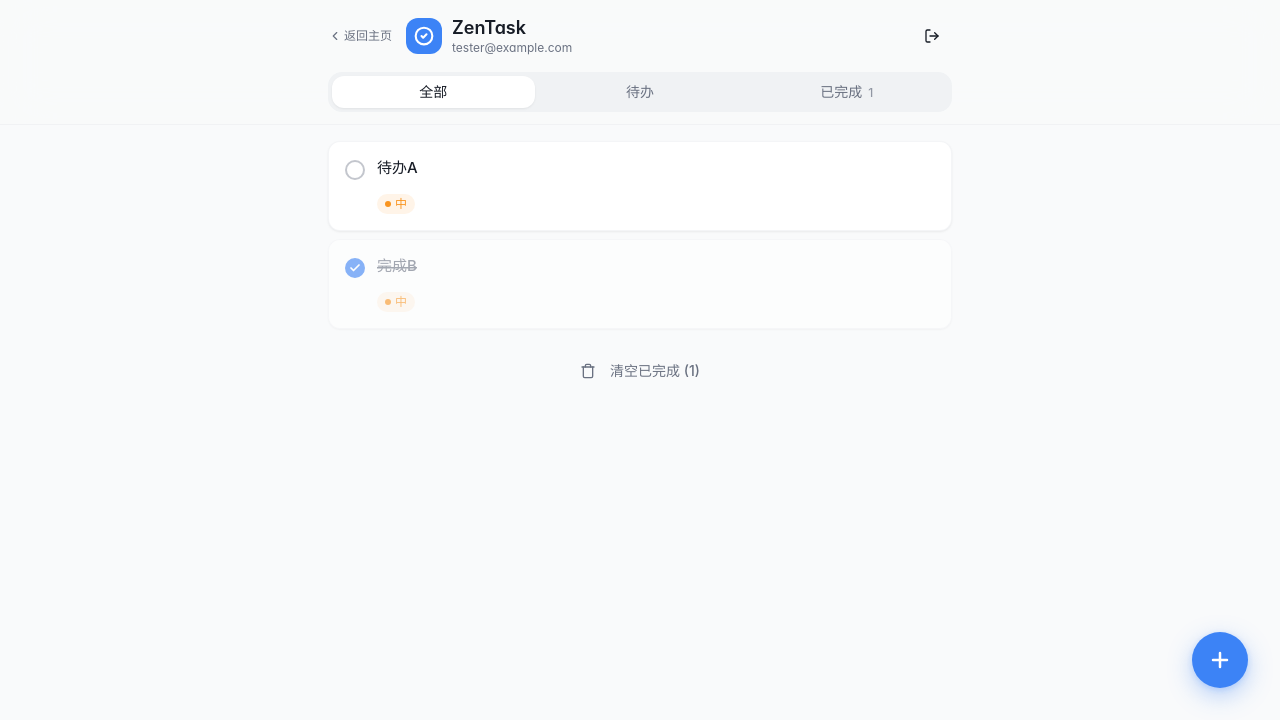
Test: Index (ZenTask) › filters tasks by completed tab
expect the heading "待办A" is shown: met, box 377,158 -> 418,179
Click the tab "已完成1" at (847, 92), box 745,76 -> 948,108
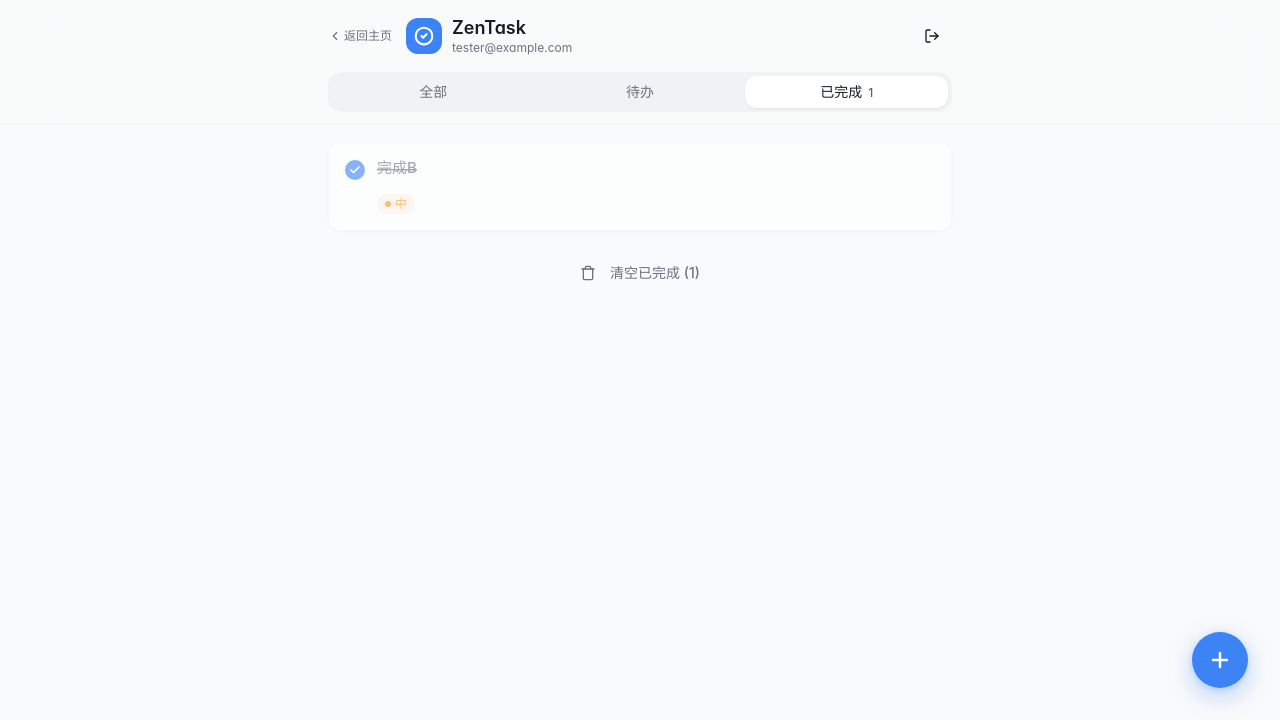
expect the heading "完成B" is shown: met, box 377,158 -> 417,179
expect the heading "待办A" is gone: met
